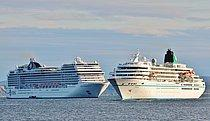Ship: (106, 47, 210, 104), (4, 56, 114, 102)
